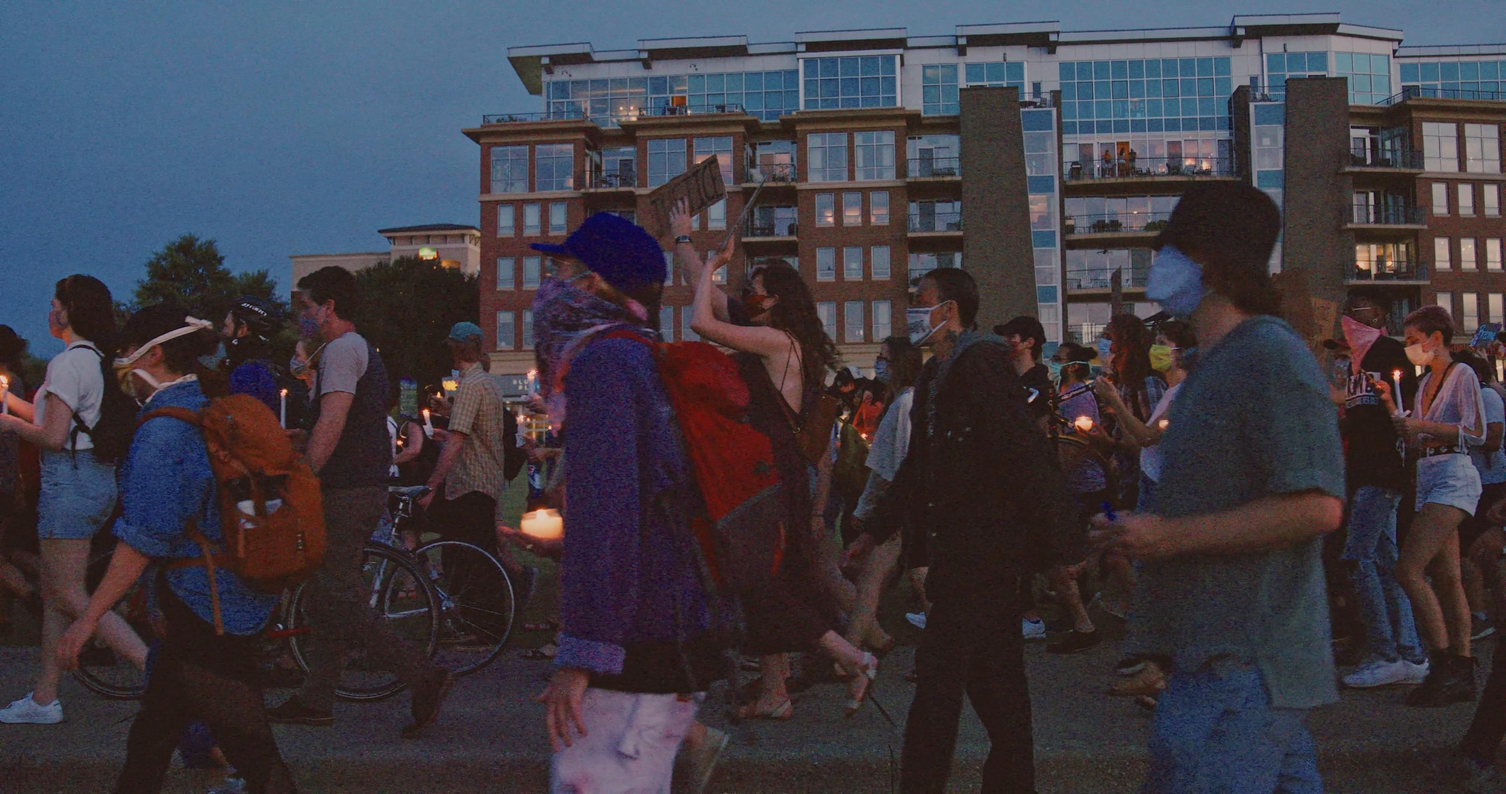helmet: (220, 296, 285, 364)
no-helmet: (529, 213, 667, 357), (1145, 179, 1282, 322), (110, 303, 220, 398), (905, 267, 980, 348), (296, 264, 363, 344), (743, 263, 821, 331), (49, 274, 114, 342), (1402, 305, 1456, 366), (1342, 287, 1393, 346), (1098, 314, 1148, 369), (1046, 342, 1098, 394), (1149, 320, 1198, 374), (992, 316, 1047, 363), (875, 335, 922, 387), (441, 322, 485, 371)
